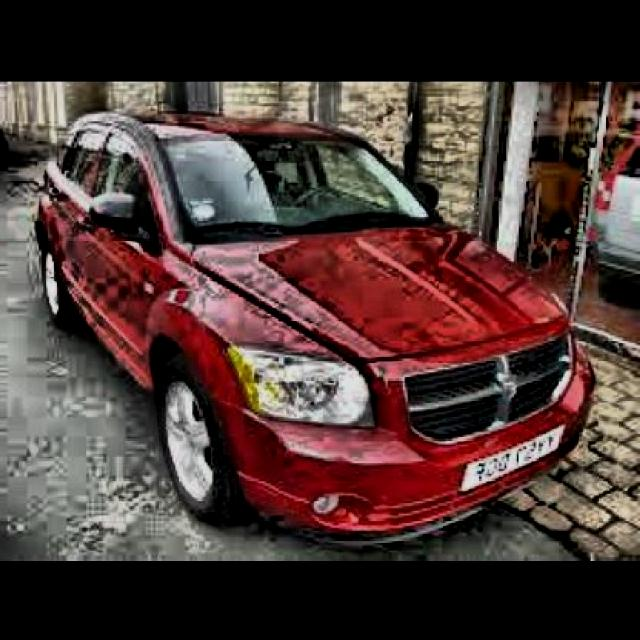red: (34, 112, 591, 534)
